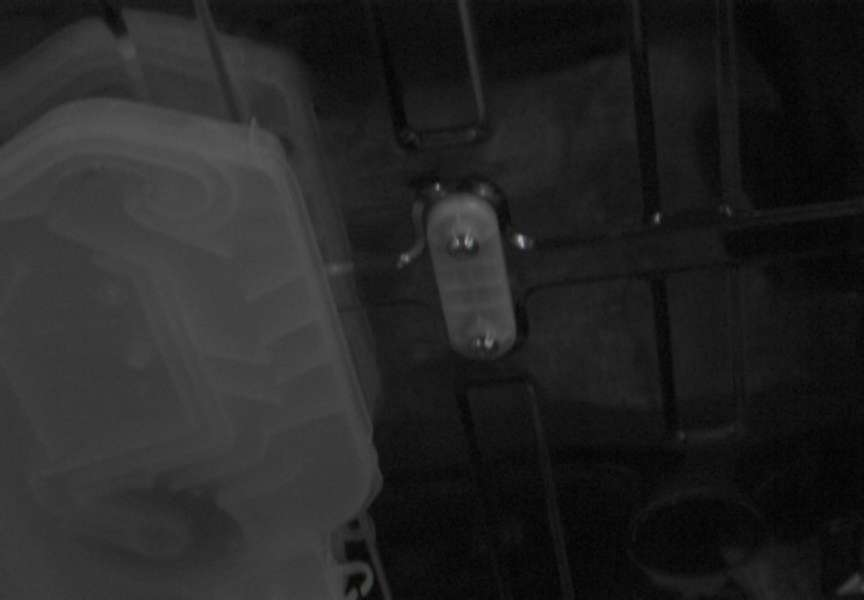screw: (447, 232, 479, 256), (470, 333, 498, 358)
